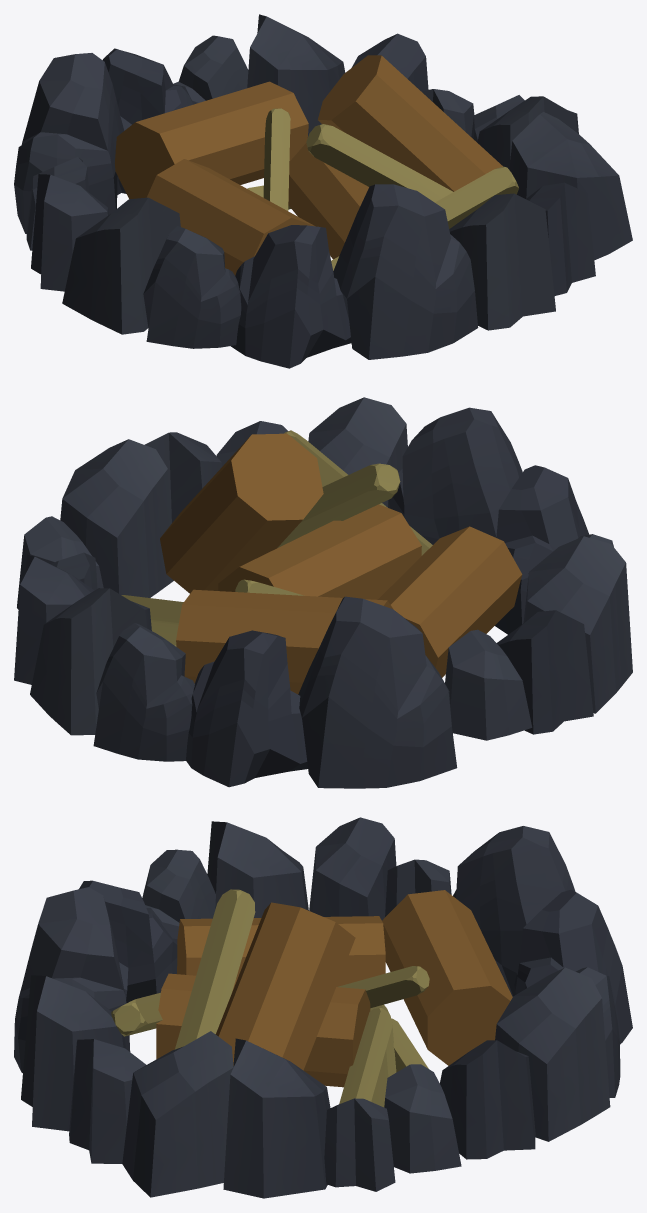
Rendered from SM_Campfire.fbx.
3 renders of one model, top to bottom at view 1: azimuth 30°, elevation 25°; view 2: azimuth 150°, elevation 25°; view 3: azimuth 270°, elevation 25°, orthographic. The views are drawn at different scales.
Parts seen in each view (by area): view 1: SM_Campfire; view 2: SM_Campfire; view 3: SM_Campfire.
Part boxes in pixels (x1,y1,x2,y2): SM_Campfire: (14,14,632,368); SM_Campfire: (14,397,632,788); SM_Campfire: (14,817,632,1198).
Size of the model in its own units: 248 by 83.92 by 240.
